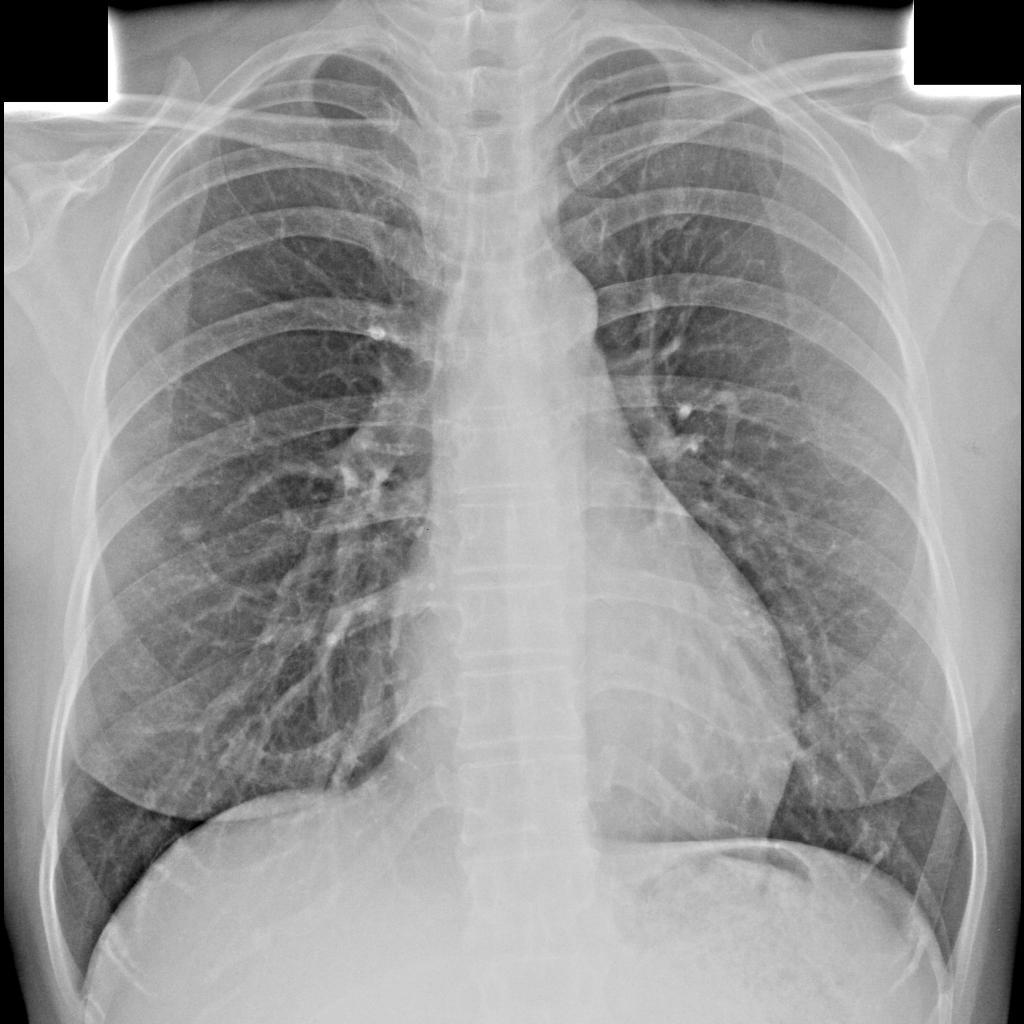Nodule: (182, 517, 208, 543)
